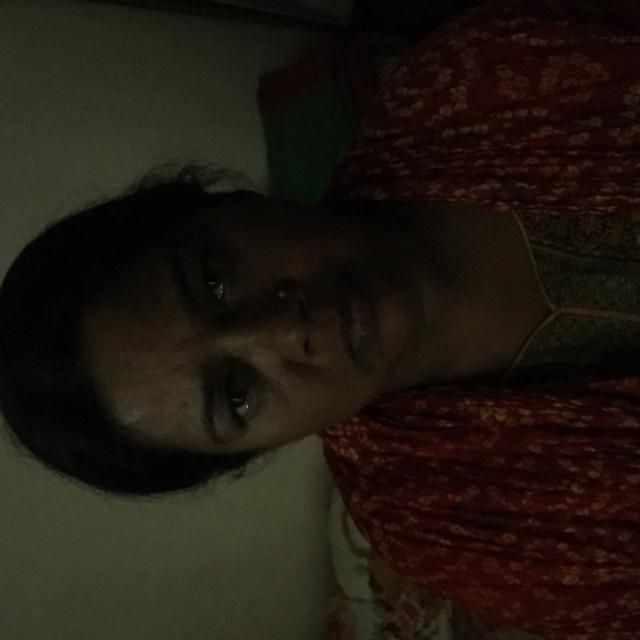Natural: (53, 124, 475, 534)
